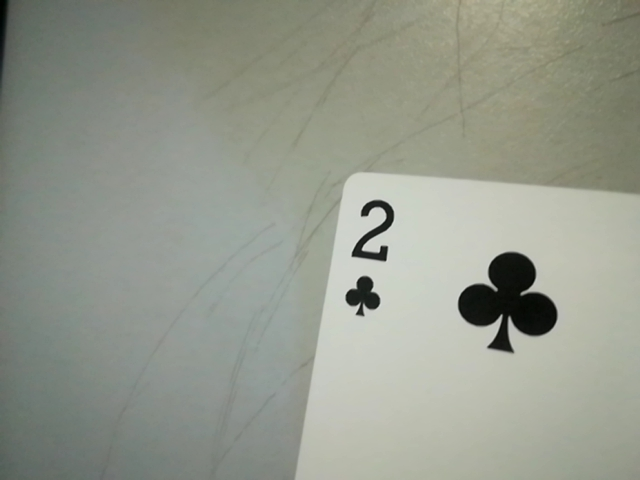mh 2: (335, 189, 402, 325)
